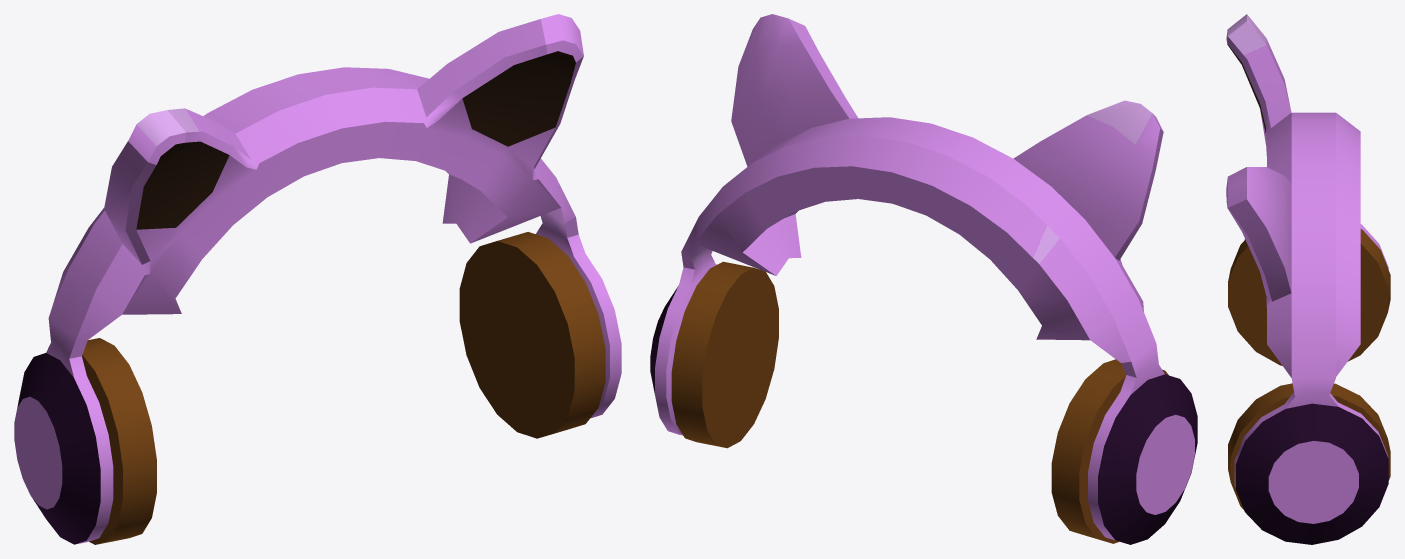
Rendered from Headphones.fbx.
The picture shows the model from 3 angles, left to right: view 1: azimuth 30°, elevation 25°; view 2: azimuth 150°, elevation 25°; view 3: azimuth 270°, elevation 25°; orthographic projection. The views are drawn at different scales.
Visible parts, largest first — view 1: Headphones; view 2: Headphones; view 3: Headphones.
Boxes of the visible parts, x1,y1,x2,y2 form: Headphones: [14, 14, 621, 544]; Headphones: [650, 14, 1197, 544]; Headphones: [1226, 14, 1390, 544].
Bounding box in the file's own units: 46.05 × 35.24 × 14.73.
